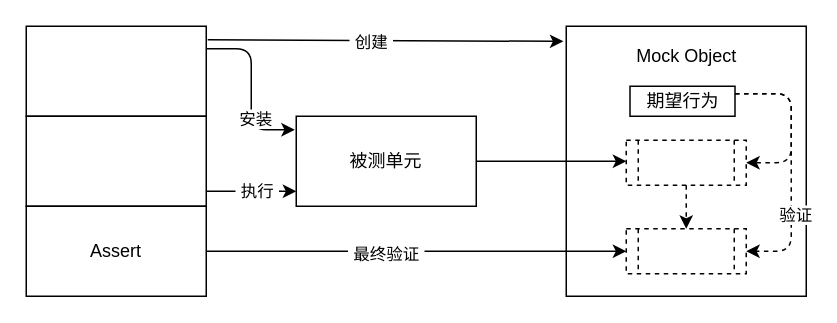
Image size: 837x323. Some labels were removed from this diagram. The centre of each missing label's shape, as x and y in pixels:
Act: [115,160]
Arrange: [115,70]
